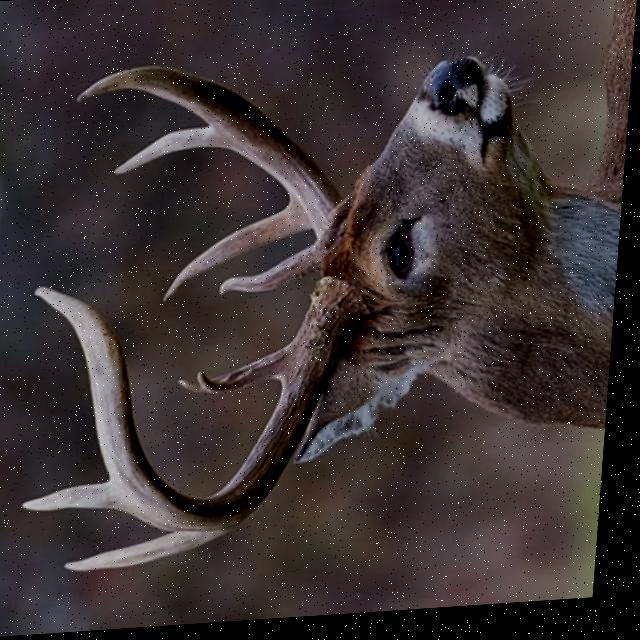L-G1: (225, 244, 327, 298)
L-G2: (167, 201, 316, 304)
L-G3: (117, 128, 230, 176)
R-F: (43, 288, 355, 535)
R-G1: (185, 336, 306, 396)
R-G2: (74, 534, 236, 572)
R-G3: (29, 483, 130, 512)
